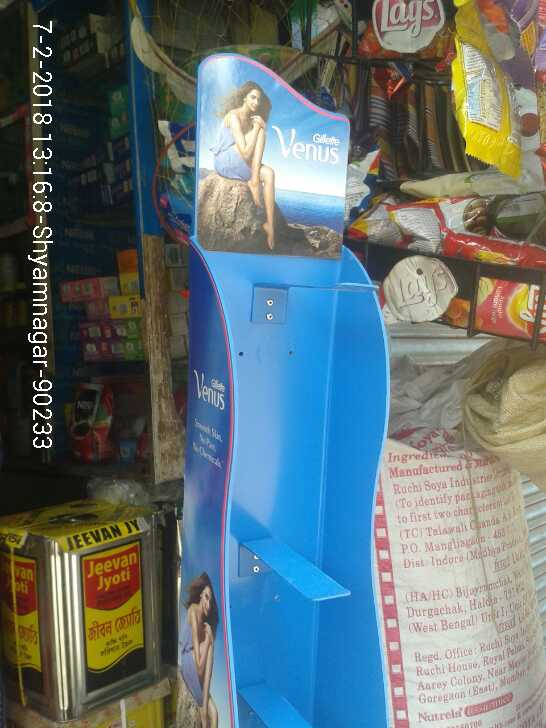reject: (255, 279, 316, 368)
